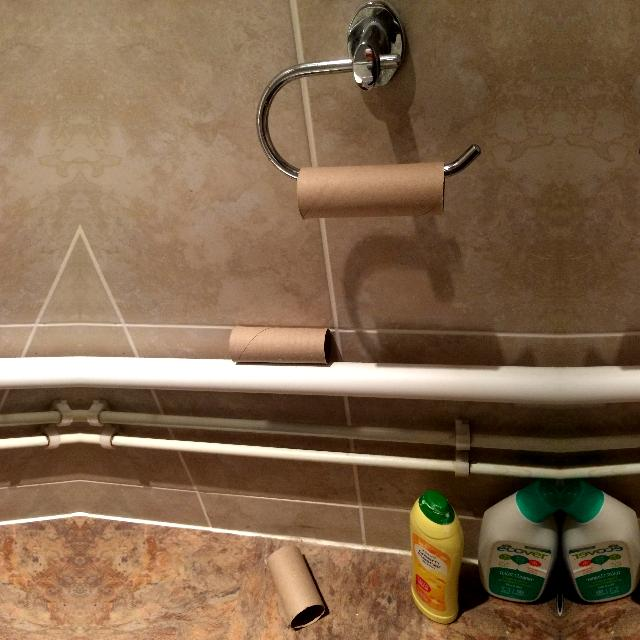Cardboard: (292, 157, 453, 221), (262, 542, 332, 630), (222, 320, 340, 370)
Plastic: (473, 472, 559, 624), (561, 472, 640, 624), (404, 485, 471, 631)
